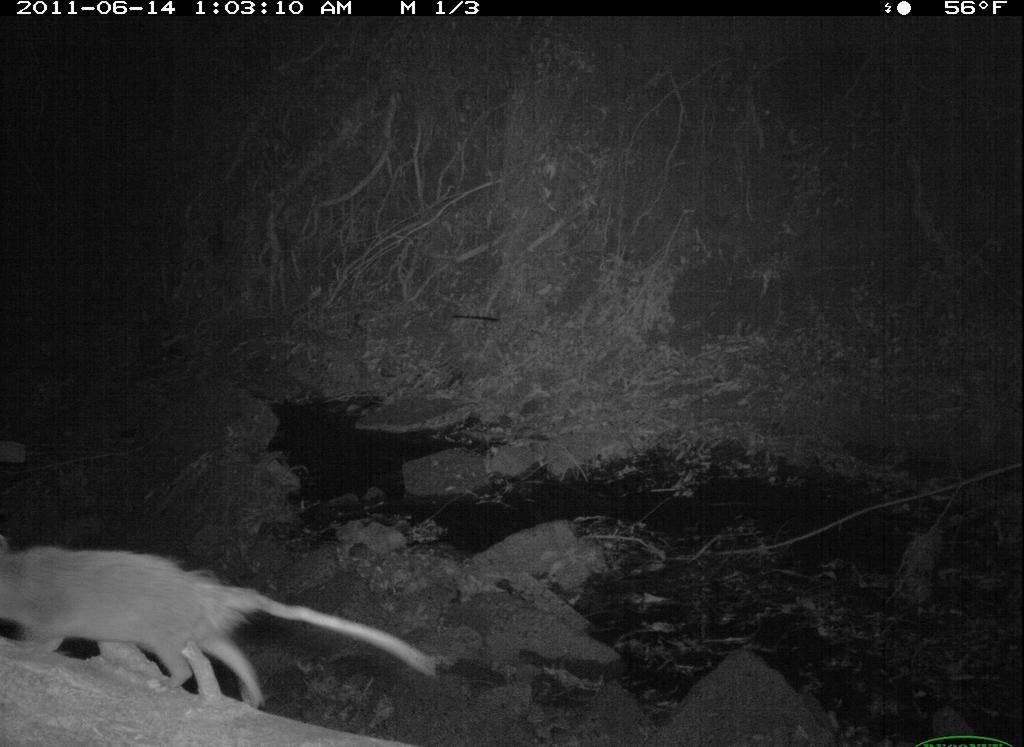opossum: (1, 541, 441, 701)
